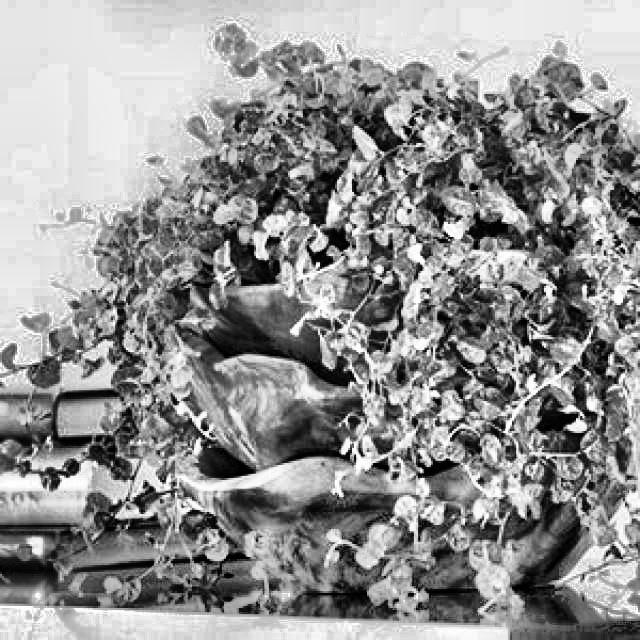plants: (151, 72, 640, 246)
